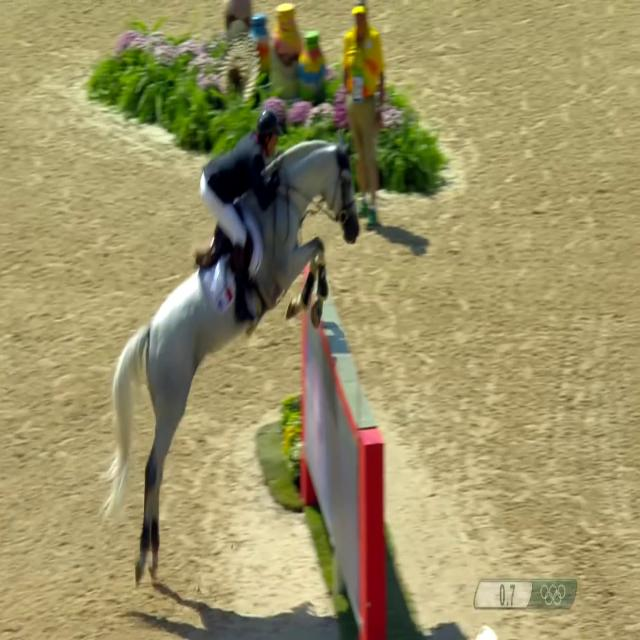Horse Jumping: (95, 119, 376, 607)
Horse Rider: (192, 70, 307, 350)
